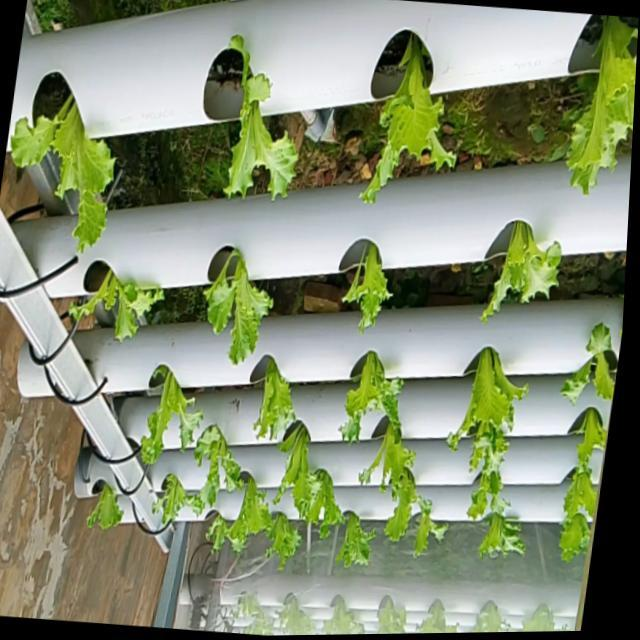Baby: (5, 99, 110, 257), (358, 37, 452, 207), (563, 15, 638, 196), (220, 40, 294, 201), (200, 255, 270, 370), (479, 223, 558, 324), (356, 418, 427, 520), (59, 278, 158, 350), (136, 370, 199, 470), (270, 422, 330, 524), (454, 348, 520, 436), (330, 486, 392, 574), (203, 477, 268, 555), (189, 426, 241, 515), (558, 323, 614, 404), (339, 353, 387, 443), (465, 405, 510, 500), (341, 246, 388, 336), (250, 359, 293, 443), (558, 465, 595, 551), (148, 476, 199, 533), (402, 496, 448, 556), (262, 513, 299, 571), (476, 511, 522, 557), (81, 491, 120, 536)
